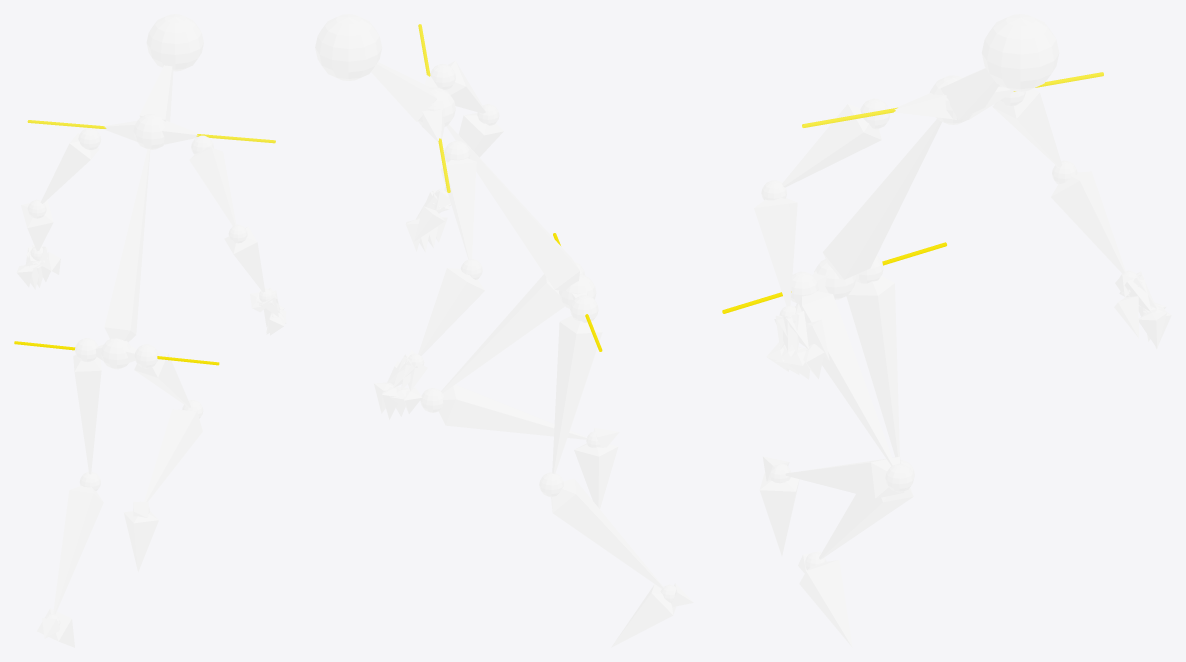
Rendered from nfl.glb.
3 renders of one model, left to right at view 1: azimuth 30°, elevation 25°; view 2: azimuth 150°, elevation 25°; view 3: azimuth 270°, elevation 25°, orthographic. The views are drawn at different scales.
Parts seen in each view (by area): view 1: MD_B_spine, MD_B_l_shin, MD_J_head, MD_B_r_shin, MD_B_l_thigh, MD_B_r_ua, MD_B_l_ua, MD_B_r_thigh, MD_B_r_foot, MD_B_neck_head, MD_B_r_la, MD_J_chest (+9 smaller); view 2: MD_B_l_thigh, MD_B_spine, MD_J_head, MD_B_r_shin, MD_B_r_thigh, MD_B_l_shin, MD_B_l_la, MD_B_l_ua, MD_B_neck_head, MD_B_r_foot, MD_B_l_foot, MD_B_r_la (+5 smaller); view 3: MD_B_spine, MD_B_l_thigh, MD_J_head, MD_B_r_thigh, MD_B_l_la, MD_B_r_ua, MD_B_r_la, MD_B_r_shin, MD_B_l_foot, MD_B_l_ua, MD_B_l_shin, MD_B_neck_head (+6 smaller).
Boxes of the visible parts, bbox=[...] form: MD_B_spine: bbox=[104, 149, 150, 342]; MD_B_l_shin: bbox=[53, 485, 103, 614]; MD_J_head: bbox=[146, 14, 203, 71]; MD_B_r_shin: bbox=[144, 409, 202, 502]; MD_B_l_thigh: bbox=[73, 355, 101, 474]; MD_B_r_ua: bbox=[189, 147, 236, 225]; MD_B_l_ua: bbox=[40, 133, 99, 203]; MD_B_r_thigh: bbox=[134, 350, 190, 407]; MD_B_r_foot: bbox=[123, 511, 158, 571]; MD_B_neck_head: bbox=[139, 65, 173, 121]; MD_B_r_la: bbox=[224, 226, 265, 292]; MD_J_chest: bbox=[133, 113, 166, 149]; MD_B_l_thigh: bbox=[552, 316, 602, 473]; MD_B_spine: bbox=[446, 124, 579, 290]; MD_J_head: bbox=[315, 14, 382, 80]; MD_B_r_shin: bbox=[438, 384, 587, 439]; MD_B_r_thigh: bbox=[441, 274, 564, 393]; MD_B_l_shin: bbox=[551, 478, 664, 589]; MD_B_l_la: bbox=[418, 268, 484, 355]; MD_B_l_ua: bbox=[440, 158, 476, 259]; MD_B_neck_head: bbox=[371, 62, 436, 121]; MD_B_r_foot: bbox=[574, 443, 618, 508]; MD_B_l_foot: bbox=[611, 584, 676, 647]; MD_B_r_la: bbox=[444, 112, 503, 191]; MD_B_spine: bbox=[823, 119, 941, 279]; MD_B_l_thigh: bbox=[846, 276, 899, 457]; MD_J_head: bbox=[981, 14, 1059, 91]; MD_B_r_thigh: bbox=[796, 291, 894, 465]; MD_B_l_la: bbox=[1051, 171, 1125, 273]; MD_B_r_ua: bbox=[782, 104, 881, 187]; MD_B_r_la: bbox=[754, 198, 797, 305]; MD_B_r_shin: bbox=[785, 456, 904, 498]; MD_B_l_foot: bbox=[799, 560, 852, 647]; MD_B_l_ua: bbox=[992, 89, 1061, 167]; MD_B_l_shin: bbox=[819, 488, 913, 559]; MD_B_neck_head: bbox=[940, 68, 999, 119].
Size of the model in its own units: 0.7327 by 1.57 by 0.8677.
